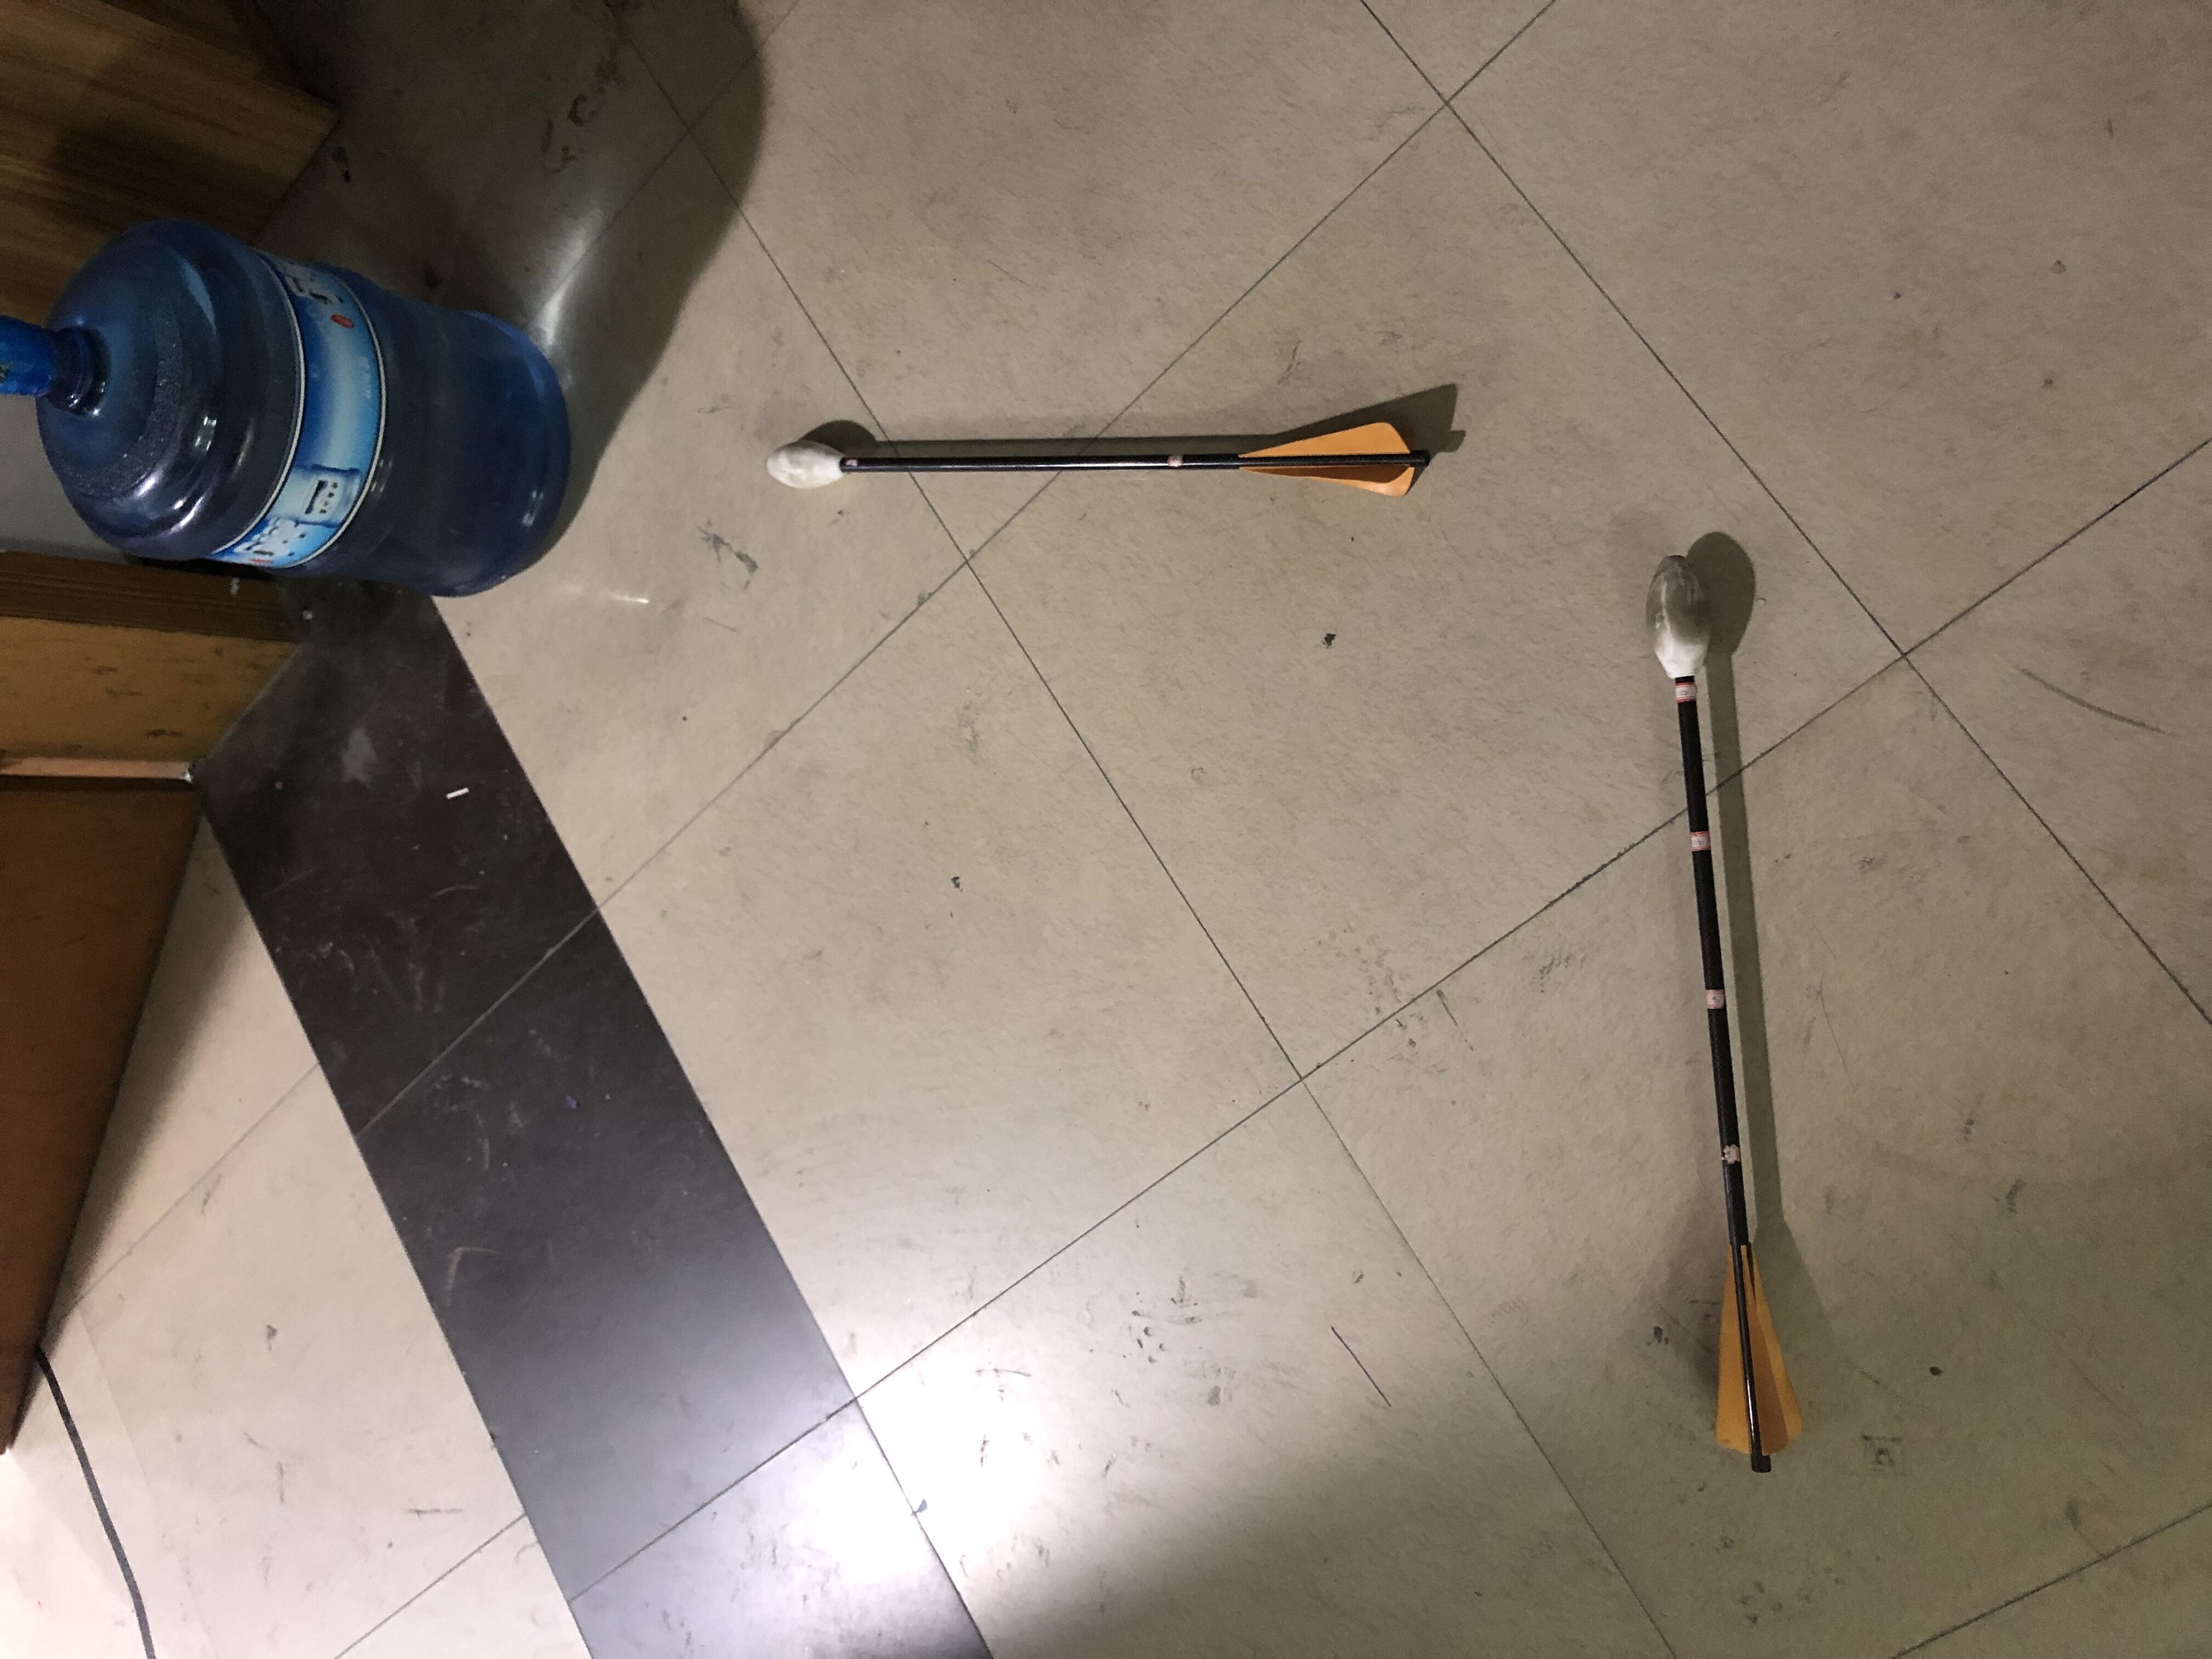arrow: (1646, 554, 1801, 1474), (770, 416, 1435, 498)
arrowFront: (1649, 554, 1712, 680), (770, 443, 846, 490)
